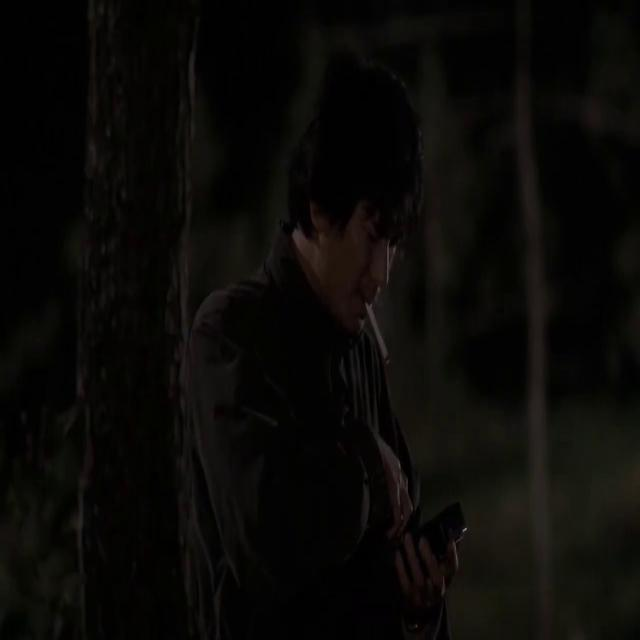Smooking: (362, 289, 395, 372)
